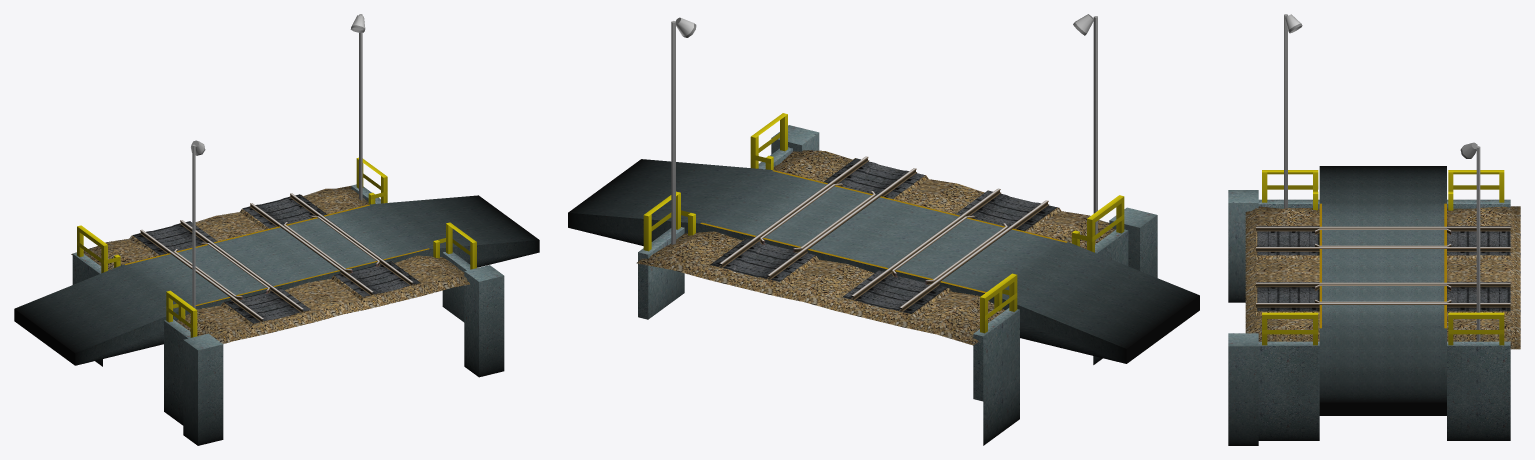
The model's file is 2RAIL25_HUMIKIRI.glb.
The picture shows the model from 3 angles, left to right: view 1: azimuth 30°, elevation 25°; view 2: azimuth 150°, elevation 25°; view 3: azimuth 270°, elevation 25°; orthographic projection. The views are drawn at different scales.
Parts seen in each view (by area): view 1: rail2, obj6, obj3, obj4, obj2; view 2: rail2, obj6, obj2, obj4, obj3; view 3: obj6, rail2, obj3, obj2, obj4.
Boxes of the visible parts, box(x1,y1,x2,y2) form: rail2: box(14, 195, 539, 365); obj6: box(71, 184, 470, 425); obj3: box(183, 265, 504, 445); obj4: box(166, 140, 476, 337); obj2: box(77, 14, 387, 273); rail2: box(568, 159, 1199, 363); obj6: box(636, 147, 1128, 445); obj2: box(643, 17, 1017, 333); obj4: box(750, 14, 1124, 252); obj3: box(771, 125, 1157, 277); obj6: box(1245, 199, 1520, 440); rail2: box(1314, 166, 1451, 415); obj3: box(1228, 190, 1258, 445); obj2: box(1448, 142, 1504, 345); obj4: box(1262, 14, 1318, 345).
Bounding box in the file's own units: 55 × 31.35 × 28.72.
Materials: 12 (6 with a texture image).
